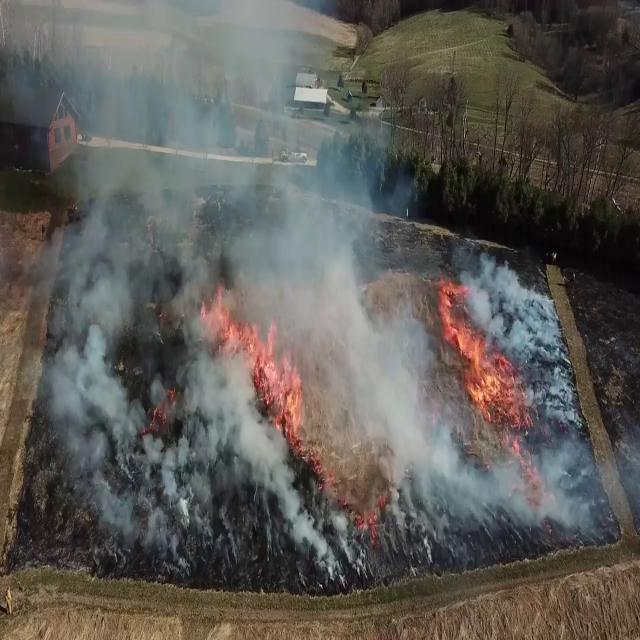Fire: (196, 280, 308, 450), (436, 284, 518, 434)
Smoke: (15, 6, 561, 574)
